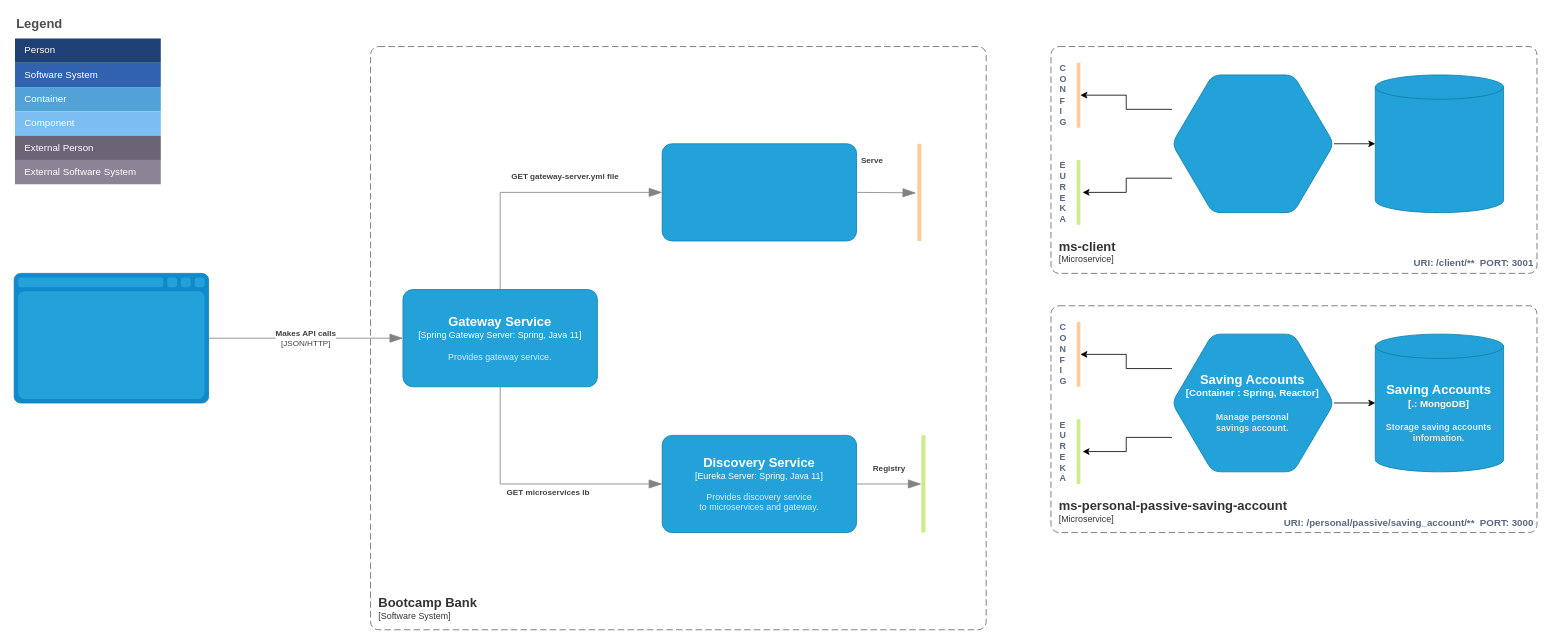
The diagram is 1551 pixels wide and 644 high, and some of its shapes have lost their labels. The centre of each missing label's shape, as x and y in pixels:
Clients [.: MongoDB] Storage Personal and Enterprise clients information.: the point at 1439,143
Clients [Container : Spring, Reactor] Manage Personal and Enterprise clients.: the point at 1252,143
Config Service [Config Server: Spring, Java 11.] Provides configuration files.: the point at 759,192
Web App [Web App: e.g. React, Angular etc.] Client, Manage App.: the point at 111,338
